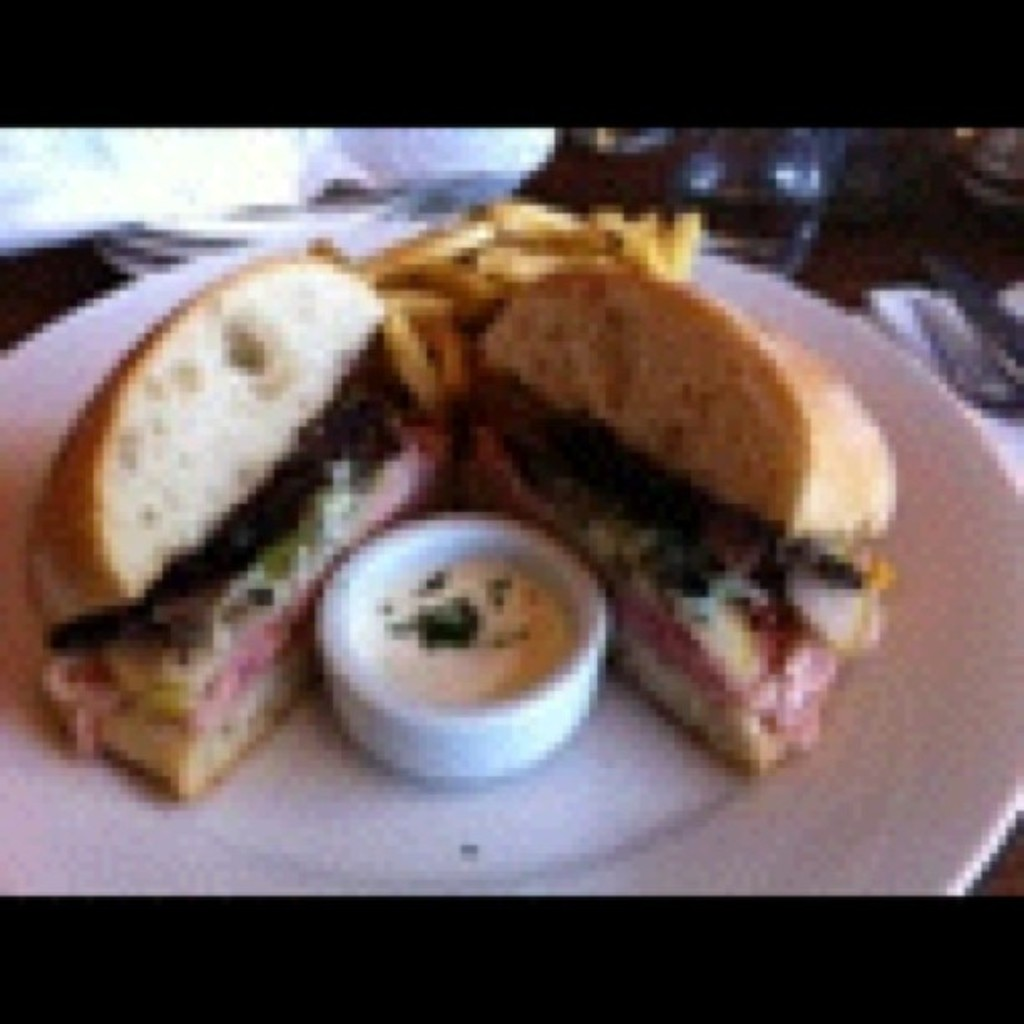Hamburger: (18, 249, 435, 801), (471, 264, 895, 773)
